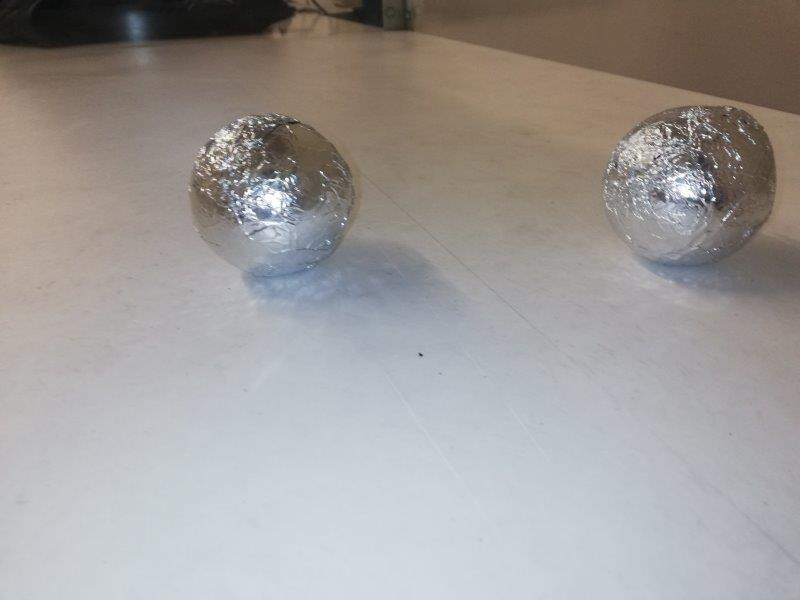bianca: (598, 103, 778, 266), (186, 113, 356, 274)
